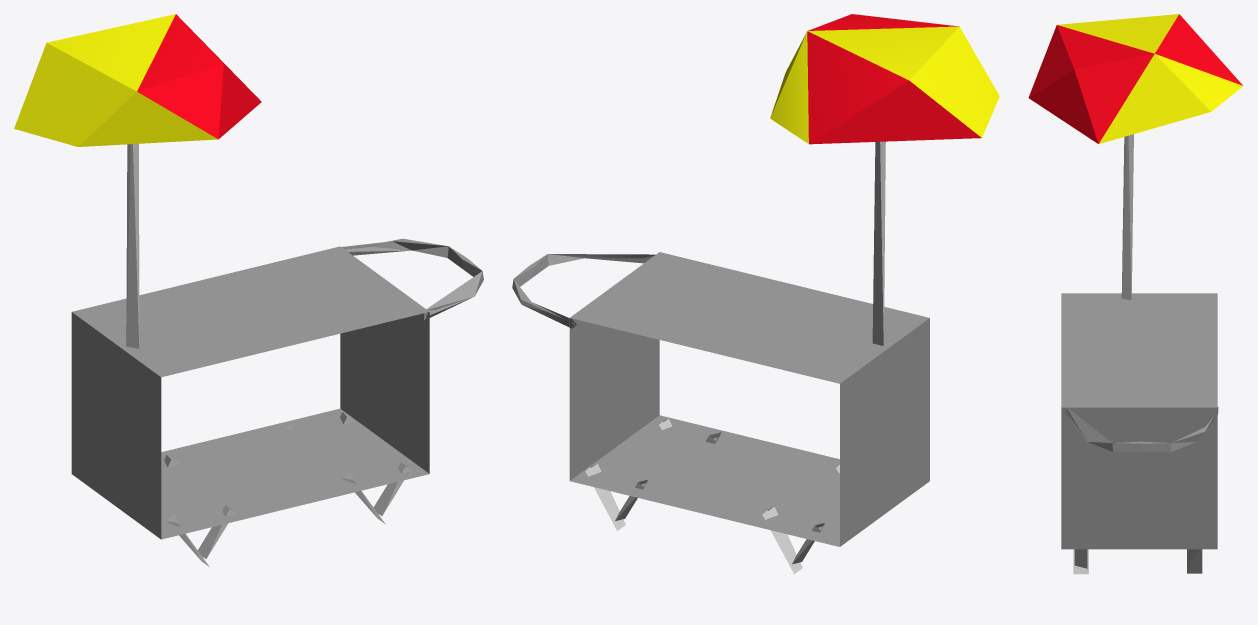
Rendered from CachorroQuenteLOD2.fbx.
The picture shows the model from 3 angles, left to right: view 1: azimuth 30°, elevation 25°; view 2: azimuth 150°, elevation 25°; view 3: azimuth 270°, elevation 25°; orthographic projection. The views are drawn at different scales.
Parts seen in each view (by area): view 1: CarrinhoDeCachorroQuenteLOD2; view 2: CarrinhoDeCachorroQuenteLOD2; view 3: CarrinhoDeCachorroQuenteLOD2.
Part boxes in pixels (x1,y1,x2,y2): CarrinhoDeCachorroQuenteLOD2: [14, 14, 483, 566]; CarrinhoDeCachorroQuenteLOD2: [512, 14, 999, 574]; CarrinhoDeCachorroQuenteLOD2: [1028, 14, 1242, 574].
Bounding box in the file's own units: 149 × 176 × 70.41.
